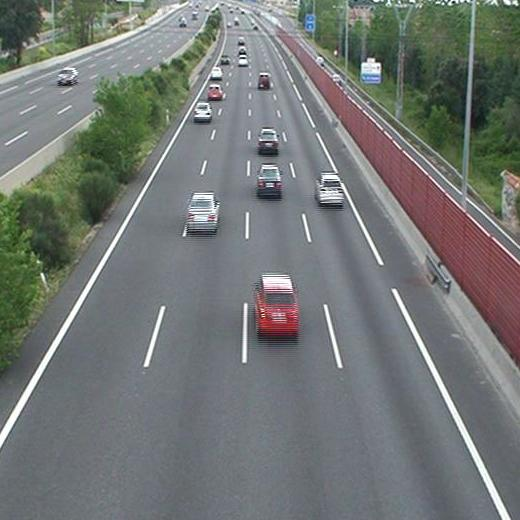car: (255, 275, 298, 333), (188, 193, 218, 229), (316, 174, 343, 204), (258, 166, 281, 195), (258, 129, 279, 150), (194, 103, 212, 121), (208, 85, 223, 99), (258, 74, 270, 88), (211, 67, 222, 79), (238, 56, 247, 66), (221, 55, 231, 64), (238, 46, 245, 55)
